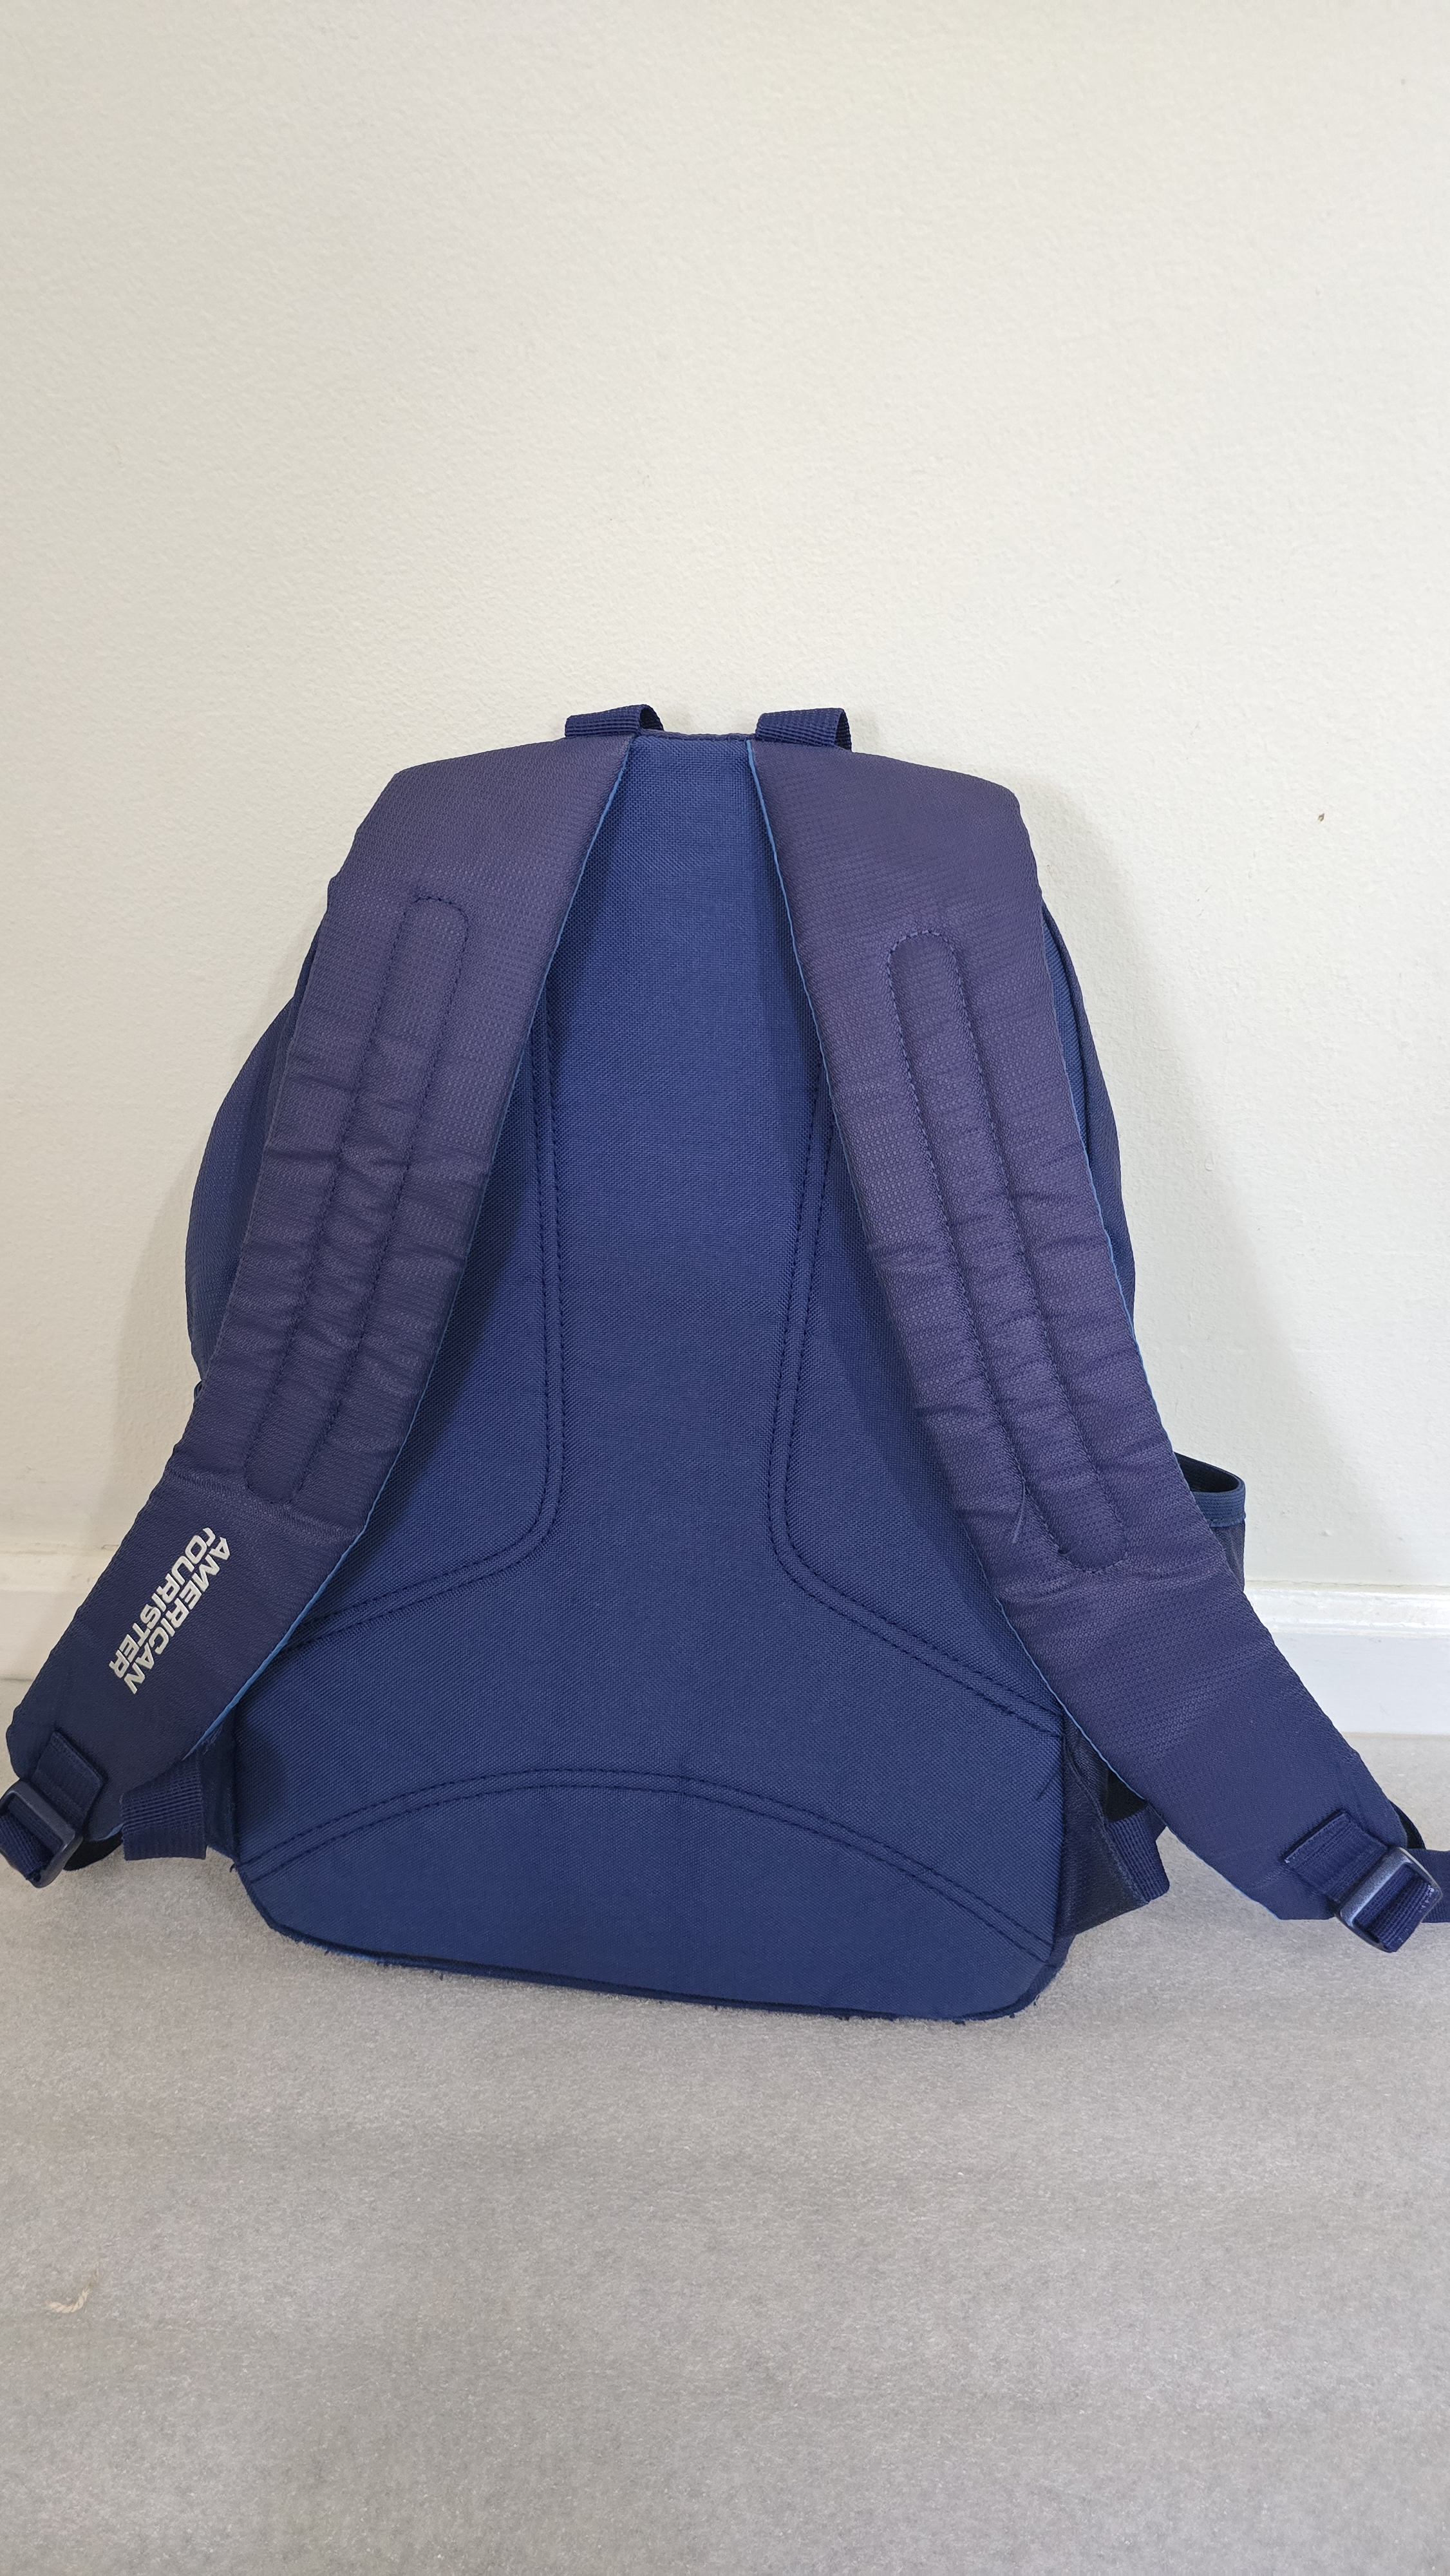bag: (111, 651, 1319, 2058)
